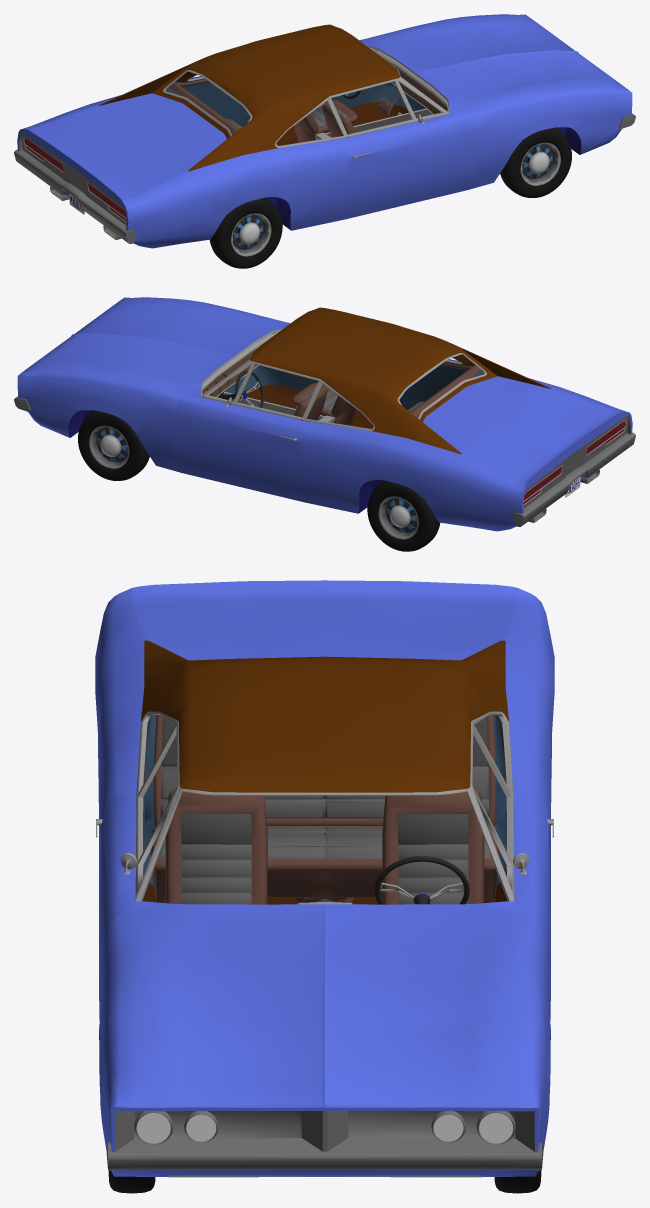
Rendered from T-2.13-other-MODEL.glb.
3 views of the same model, one above another, from view 1: azimuth 30°, elevation 25°; view 2: azimuth 150°, elevation 25°; view 3: azimuth 270°, elevation 25° (orthographic). The views are drawn at different scales.
Parts seen in each view (by area): view 1: UberExport; view 2: UberExport; view 3: UberExport.
Boxes of the visible parts, x1,y1,x2,y2 form: UberExport: (14,14,635,268); UberExport: (14,297,635,551); UberExport: (95,580,554,1193).
Size of what is drawn, in the model's own units: 567 by 154 by 221.
Materials: 21 (2 with a texture image).
